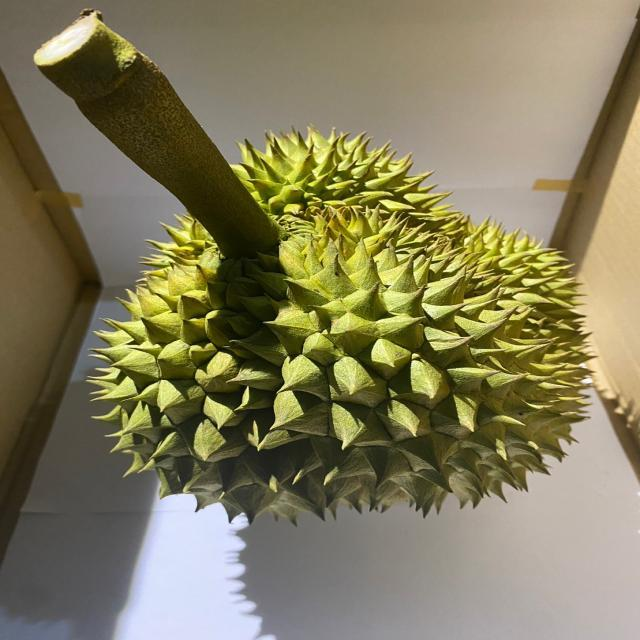immature: (88, 122, 598, 527)
